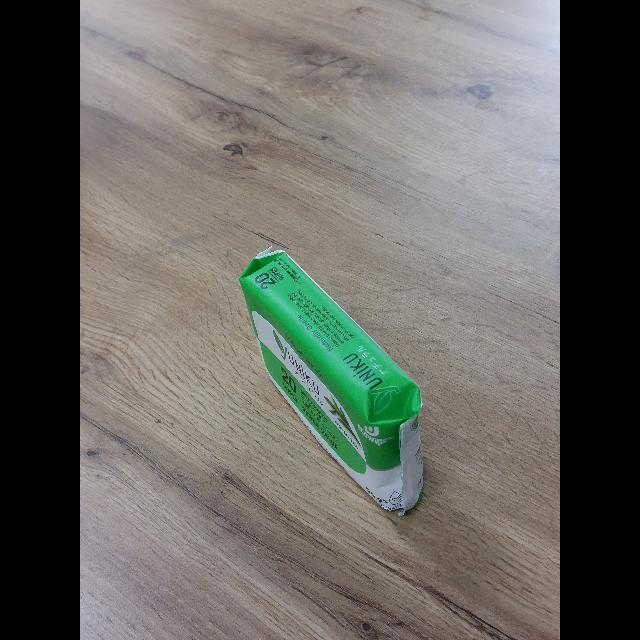khan_giay: (238, 250, 424, 518)
